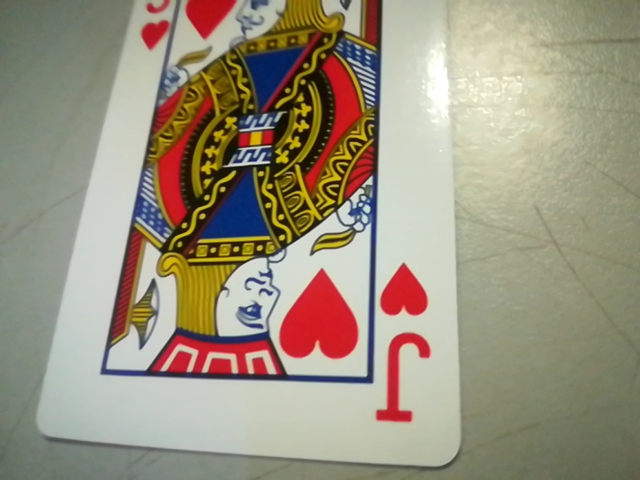hx j: (365, 259, 444, 434)
